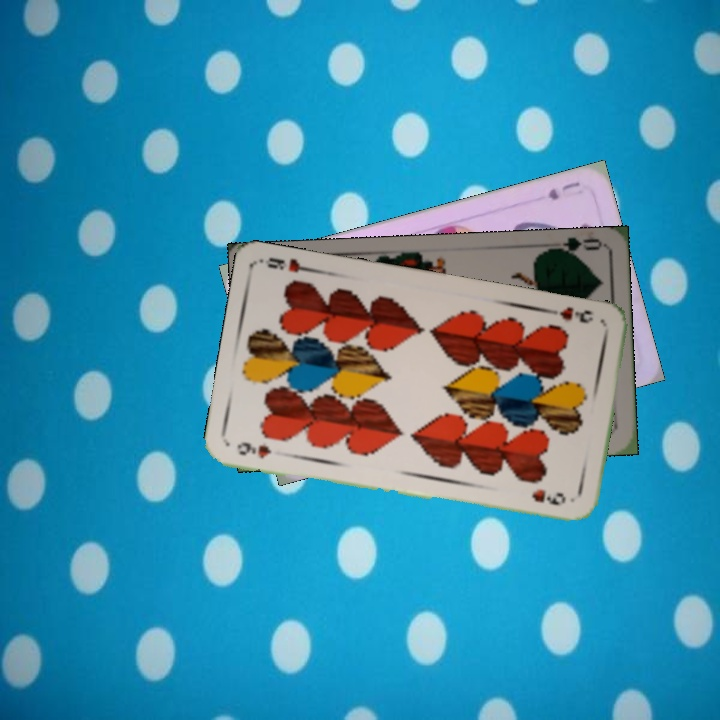GO: (543, 234, 602, 262)
H9: (545, 302, 596, 326), (233, 437, 274, 461)
SU: (544, 177, 583, 203)
